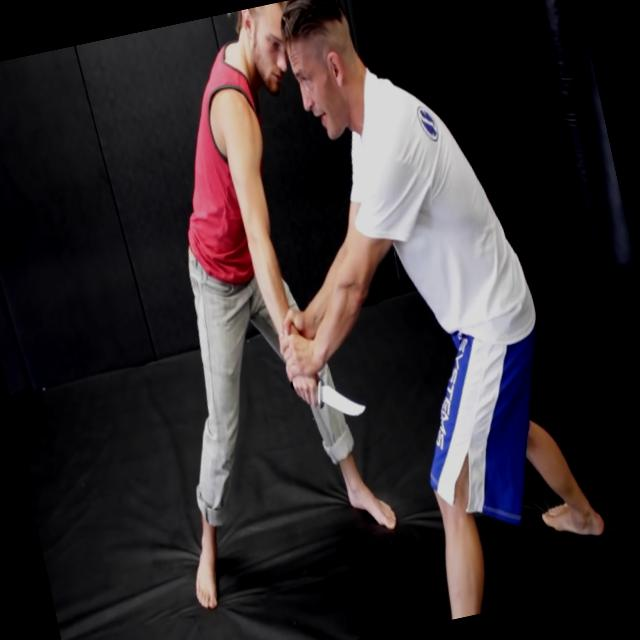knife: (283, 359, 372, 436)
